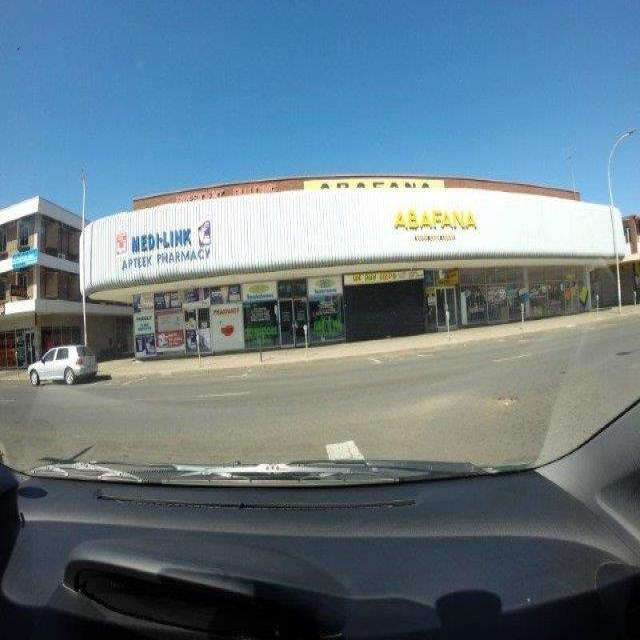lubang: (492, 390, 520, 410)
